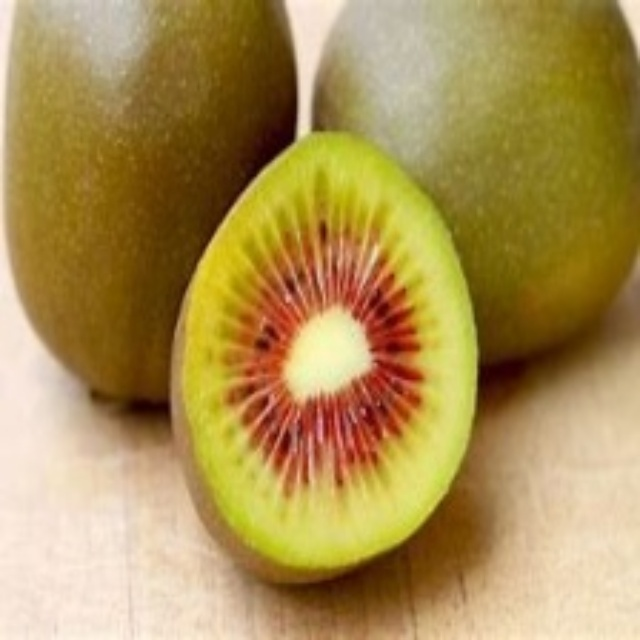kiwi: (169, 125, 479, 592), (312, 2, 639, 365), (10, 4, 293, 415)
